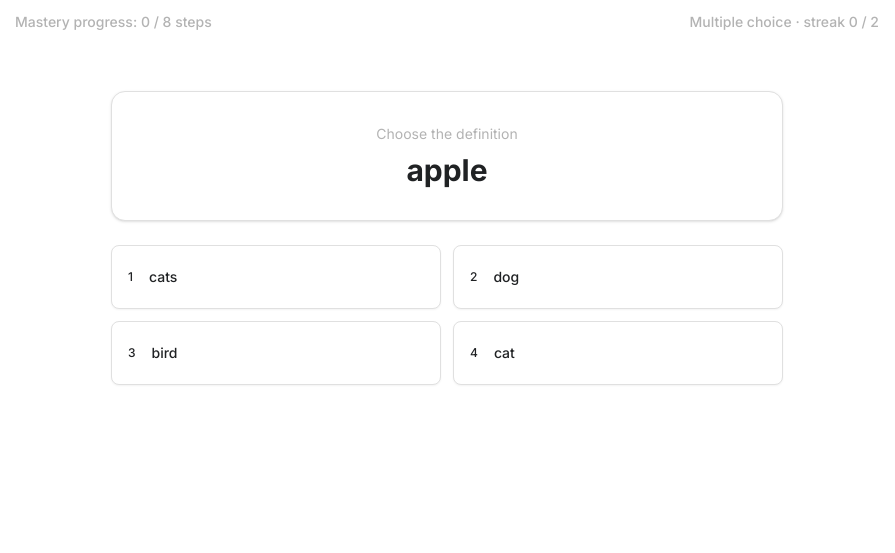
Scenario: AdaptiveLearnPlayer › should_mark_a_close_mcq_distractor_as_incorrect
The width and height of the screenshot is (895, 553).
Click the button "1 cats".
click(130, 276)  # box [111,245,441,309]
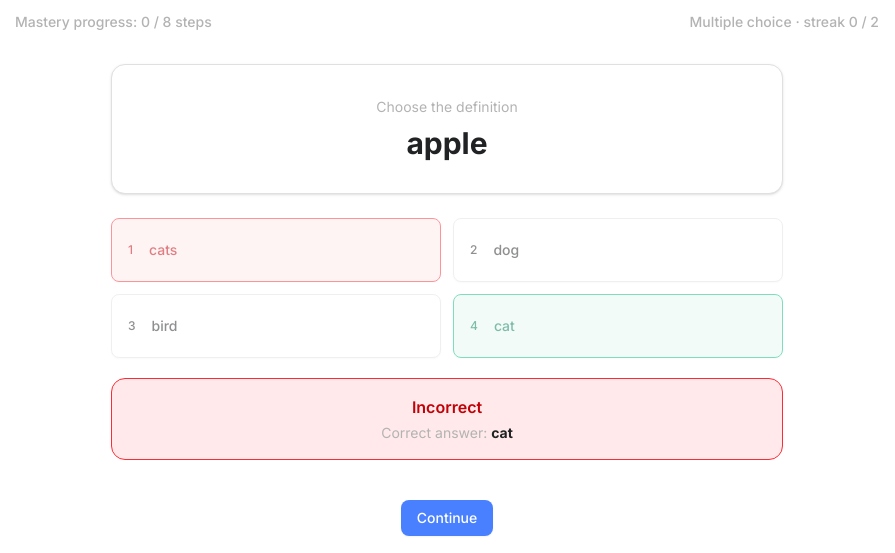
Now the message shows "Incorrect", box [412,397,482,417]
